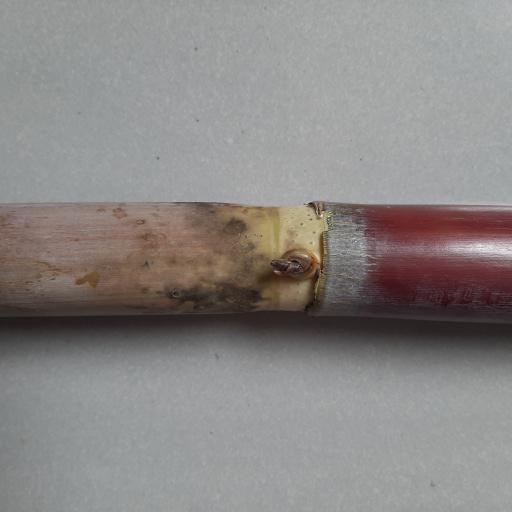Sprouted_Bud: (270, 248, 319, 282)
